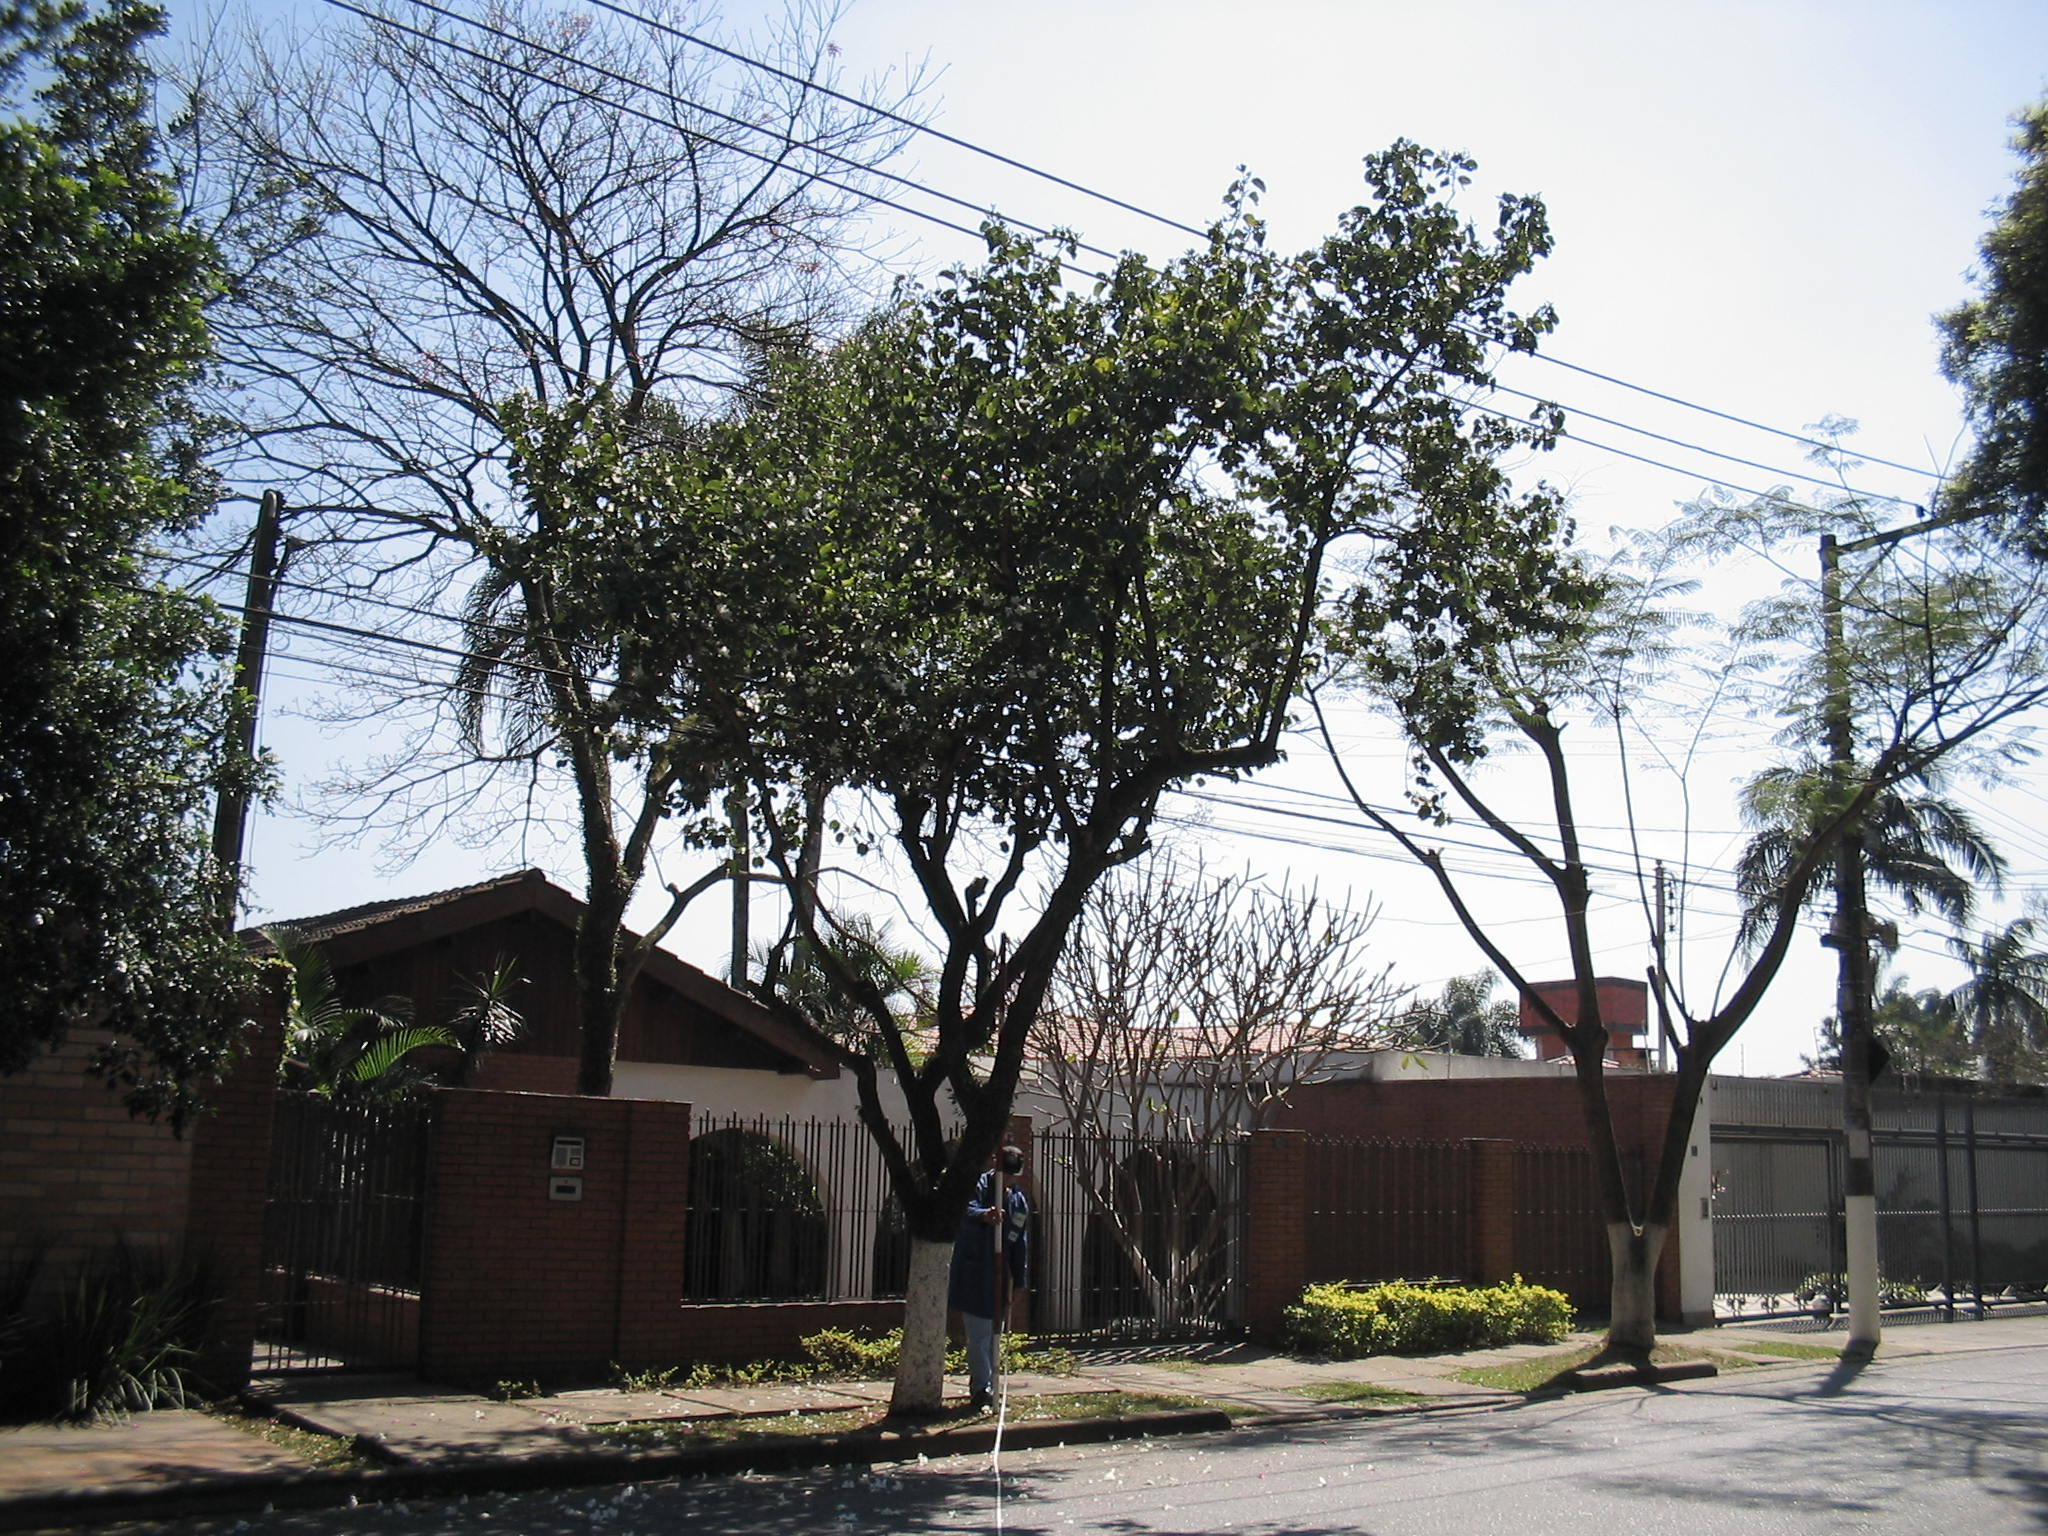crown: (540, 145, 1606, 865), (1316, 511, 2045, 933)
stem: (861, 1200, 974, 1413), (1579, 1246, 1680, 1347)
tree: (535, 140, 1609, 1417), (1305, 511, 2048, 1350)
